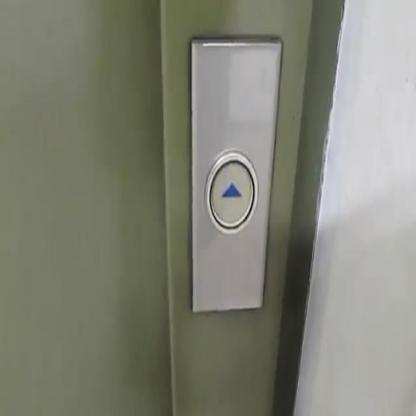up: (202, 147, 260, 234)
